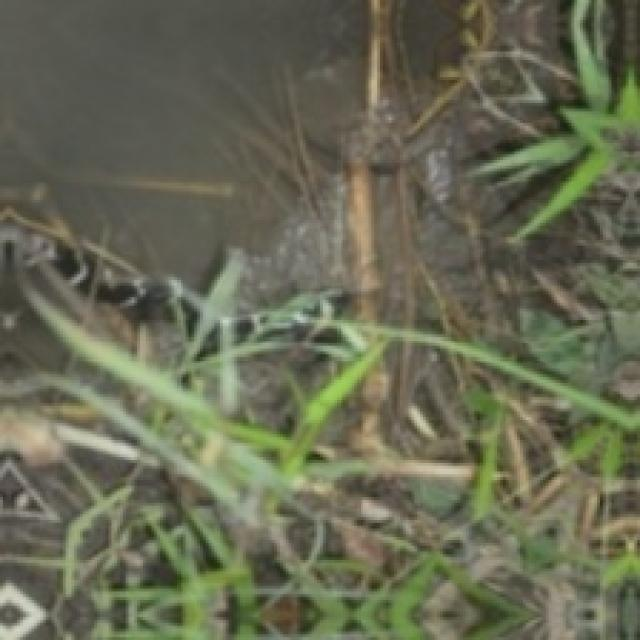mangrove cat snake: (0, 206, 363, 374)
